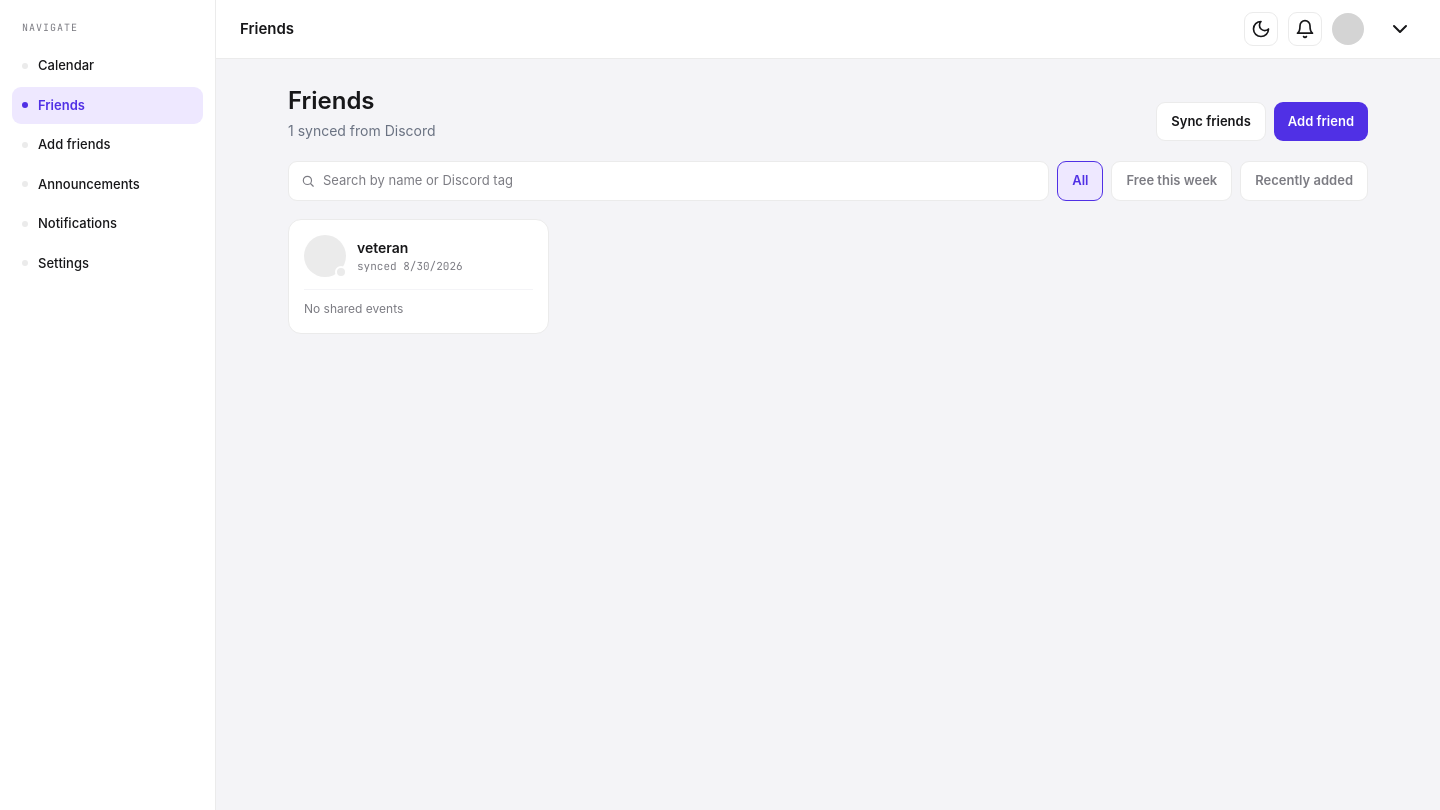
friends directory page › the filter chips › says why the list is empty
The image size is (1440, 810).
Expected: the text "veteran" is shown, [357,239,408,256]
Click the button "Recently added": (1304, 181) [1240,161,1368,200]
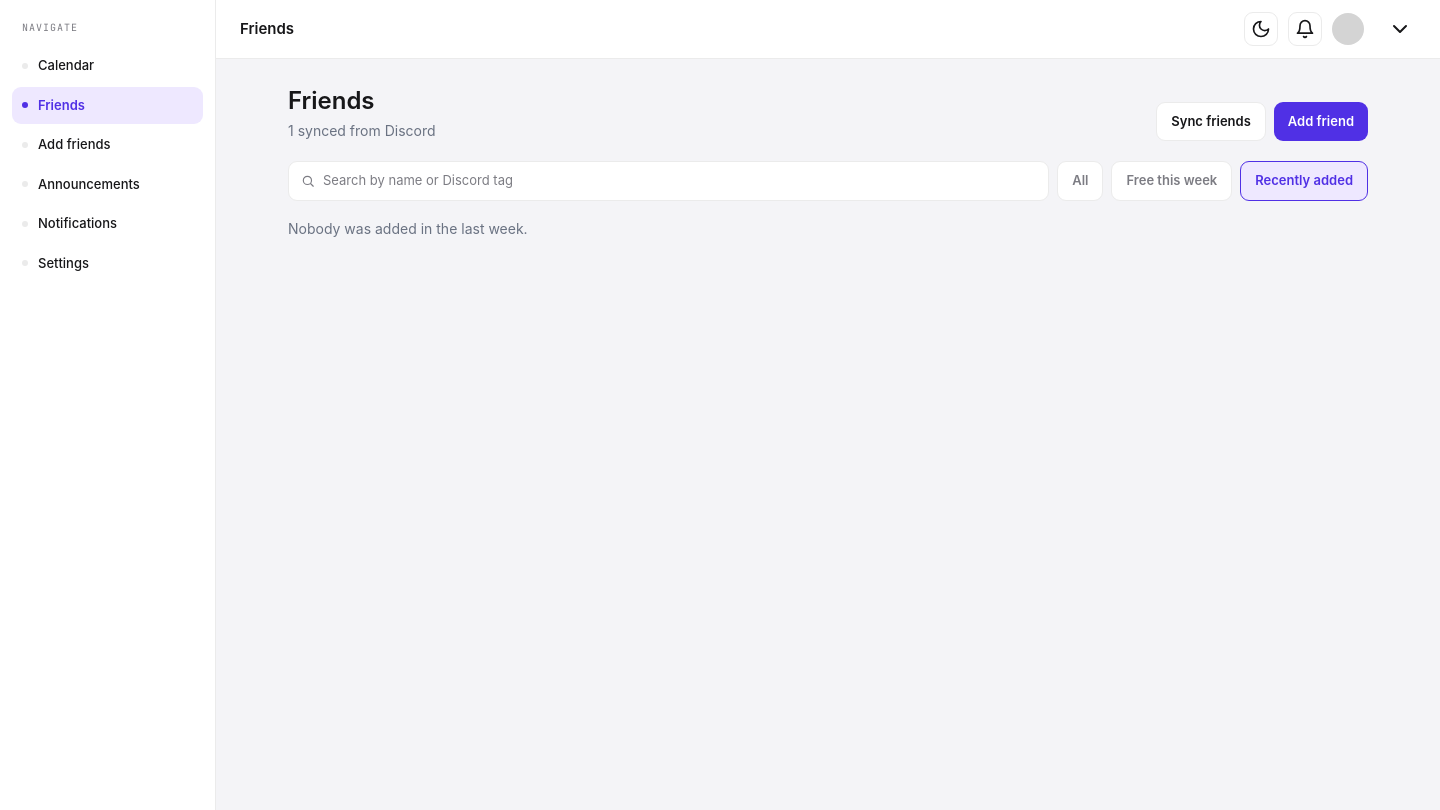
Now the text "Nobody was added in the last week." is shown, box [288,220,528,236]
